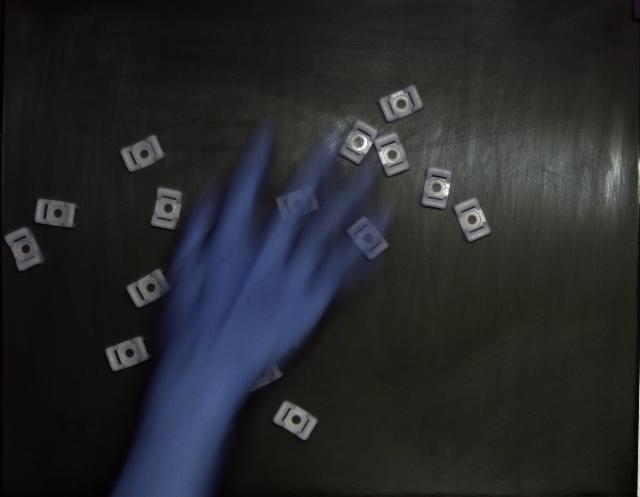first_side: (274, 401, 318, 441), (126, 269, 170, 308), (340, 120, 378, 165), (5, 228, 44, 271), (120, 135, 165, 172), (379, 85, 424, 122), (454, 198, 490, 242), (375, 132, 410, 176), (105, 338, 150, 372), (151, 188, 182, 230), (421, 168, 452, 210), (35, 199, 79, 228)
